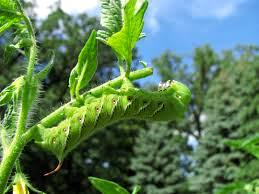Caterpillar: (29, 67, 197, 184)
